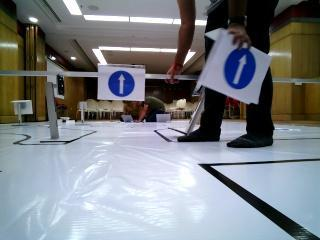straight: (197, 27, 271, 101), (97, 64, 146, 98)
